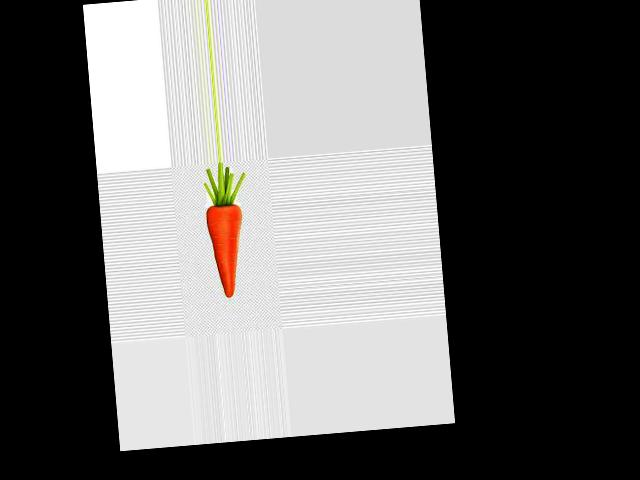carrot: (200, 203, 251, 303)
